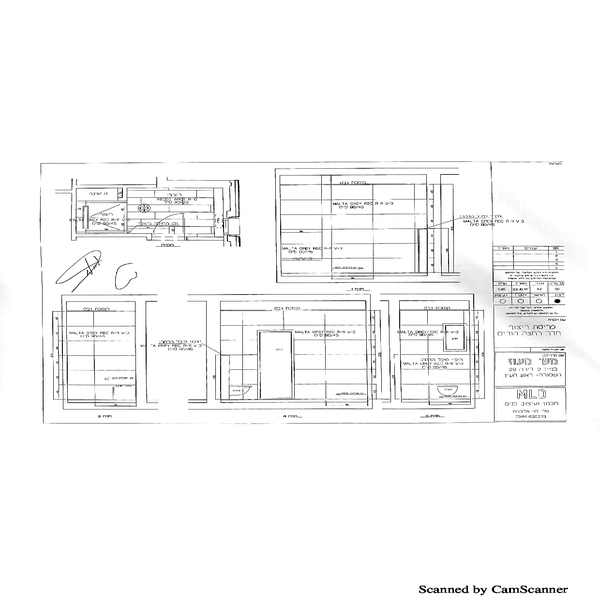room: (272, 167, 457, 283), (205, 292, 373, 407), (388, 291, 477, 414), (67, 184, 244, 245), (57, 294, 147, 409)
